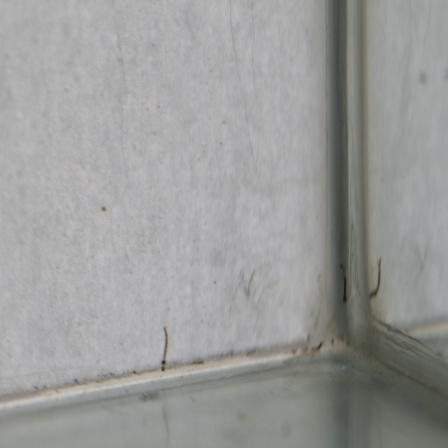Jentik-Nyamuk: (334, 260, 352, 308), (156, 324, 173, 373)
